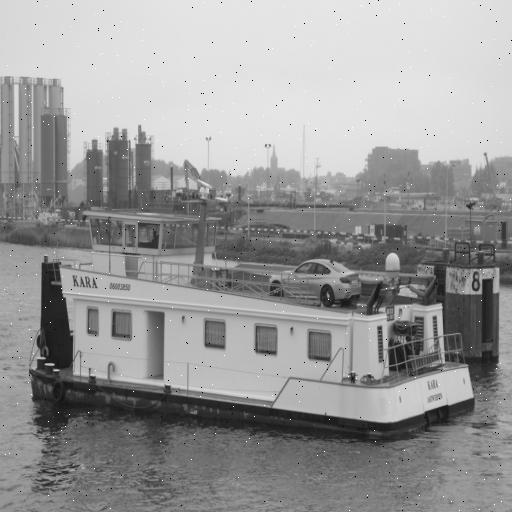tugboat: (28, 174, 479, 447)
